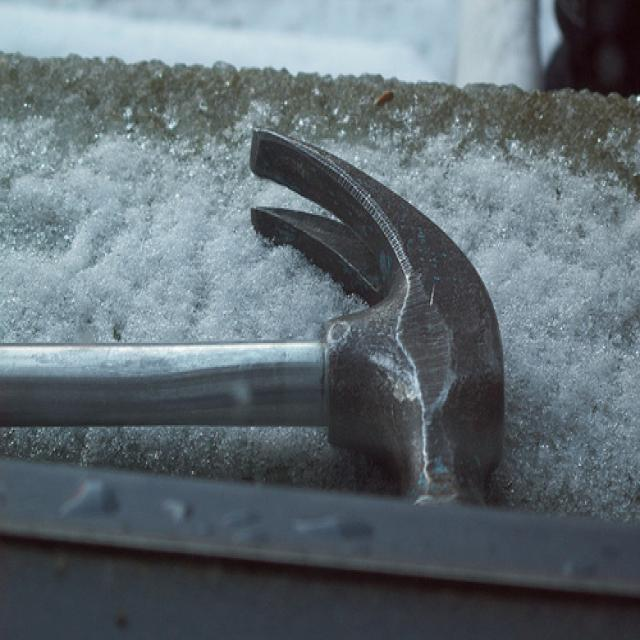hammer: (0, 119, 512, 534)
